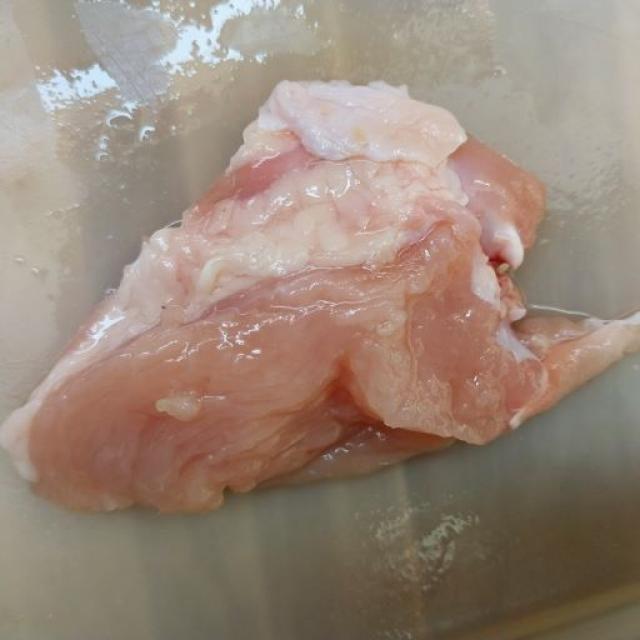Chicken: (0, 62, 640, 549)
